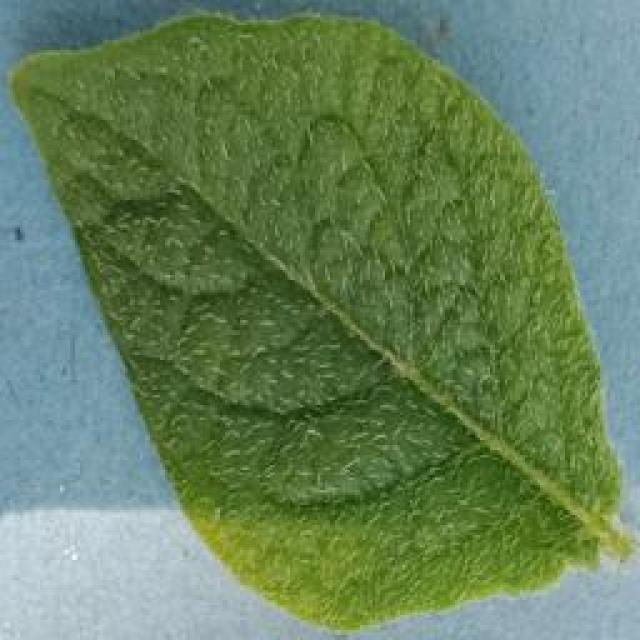Potato_Healthy: (7, 9, 622, 630)
